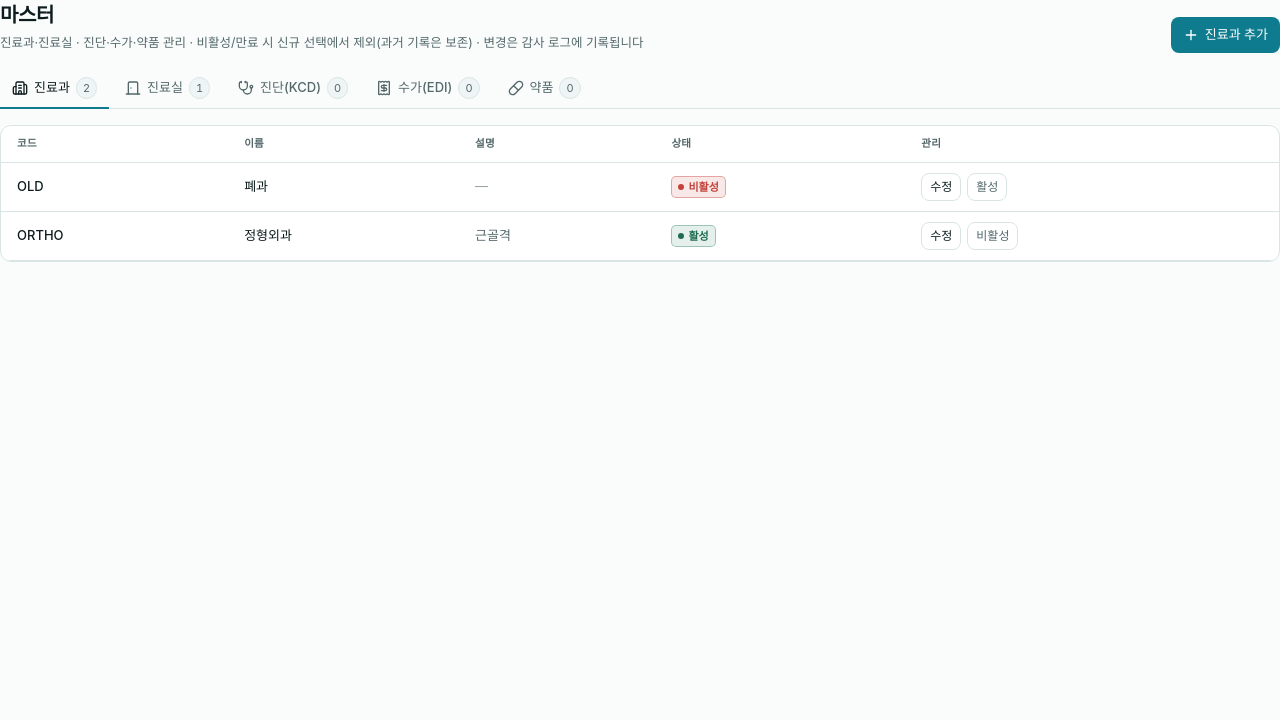
Test: MastersManager › 진단 생성 → POST /v1/masters/diagnoses (발효일 포함)
Click the tab "진단(KCD) 0": (293, 89) [226,69,360,109]
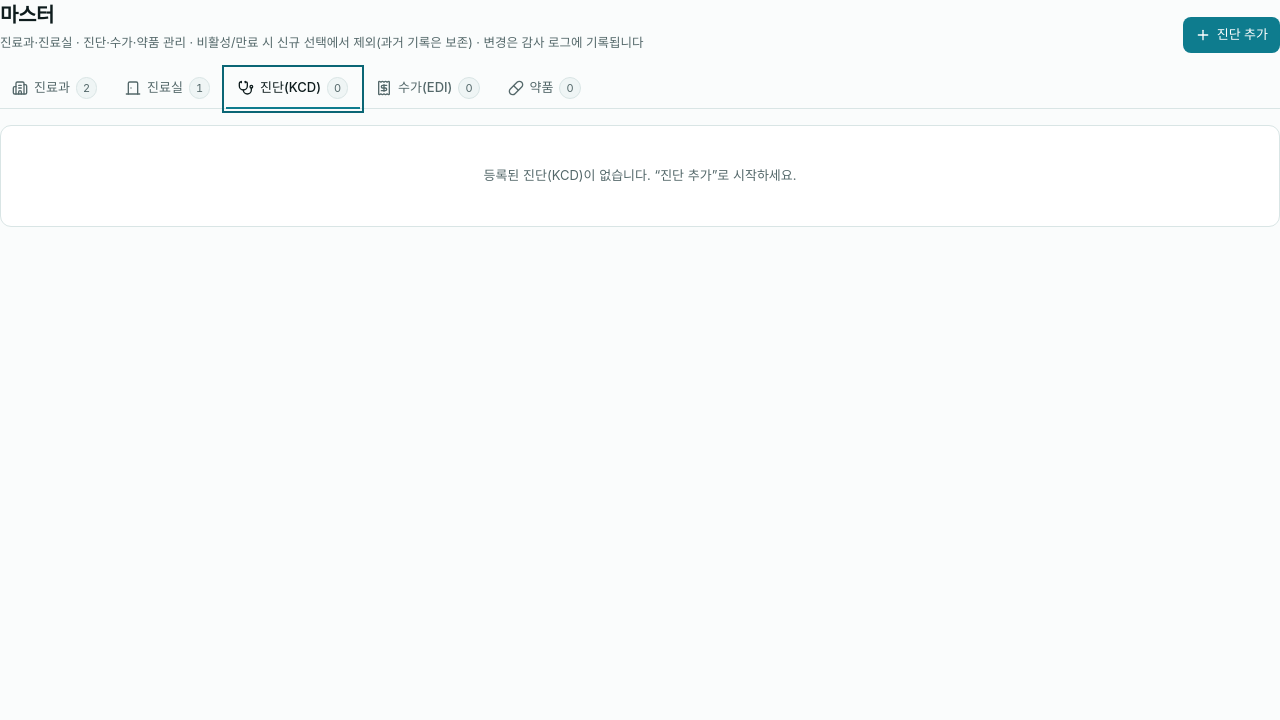
Click the button "진단 추가": (1231, 35) [1183,17,1279,53]
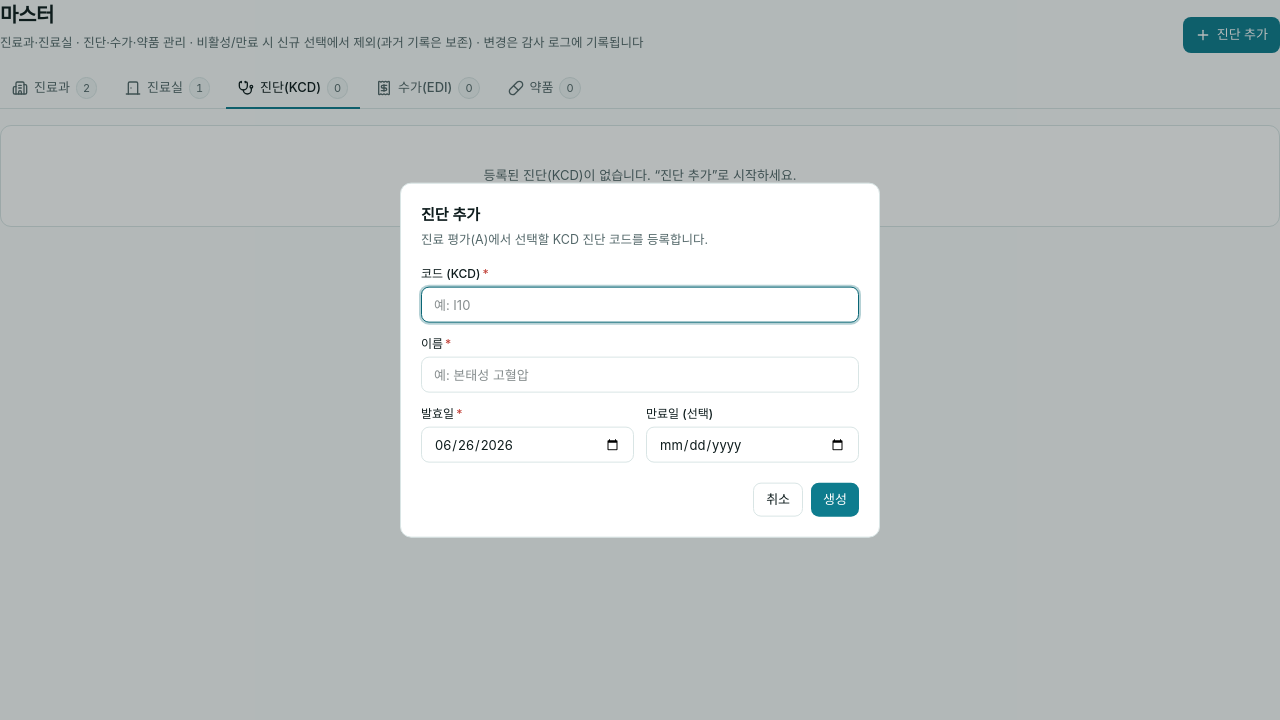
In the field labelled "코드 (KCD)*": (640, 305) [421,287,859,323], type "K35"
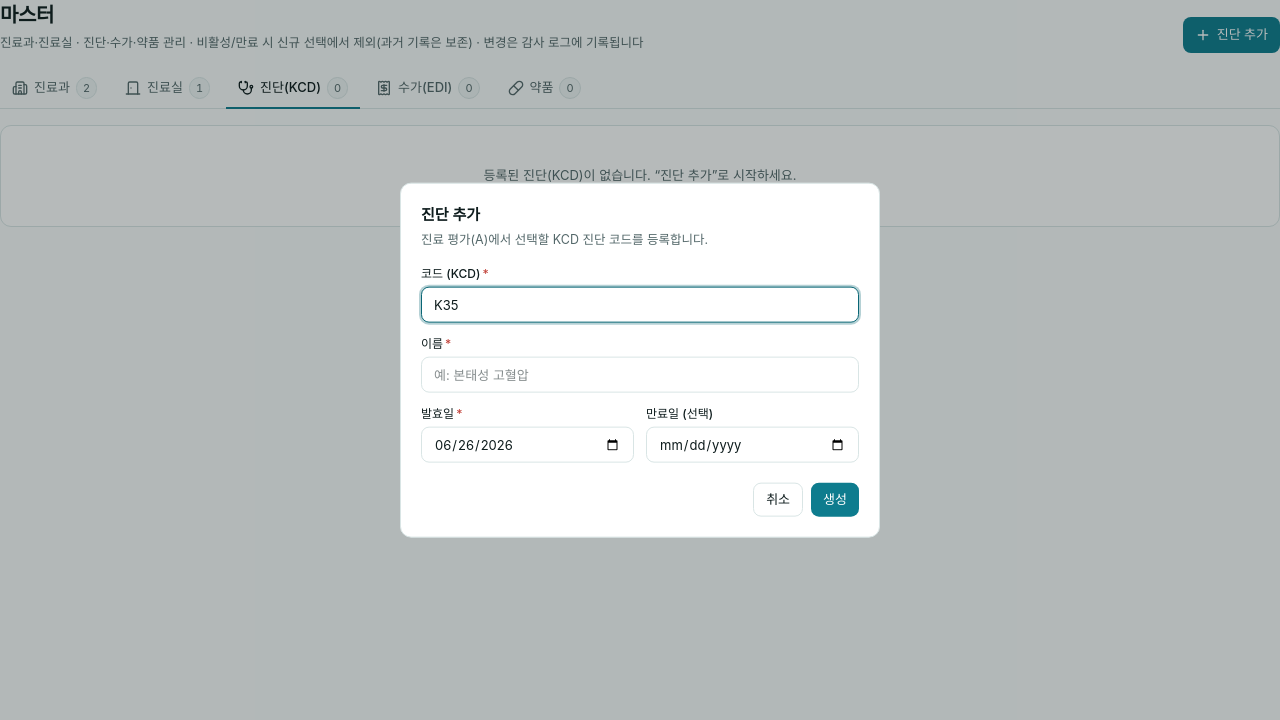
In the field labelled "이름*": (640, 375) [421,357,859,393], type "급성 충수염"
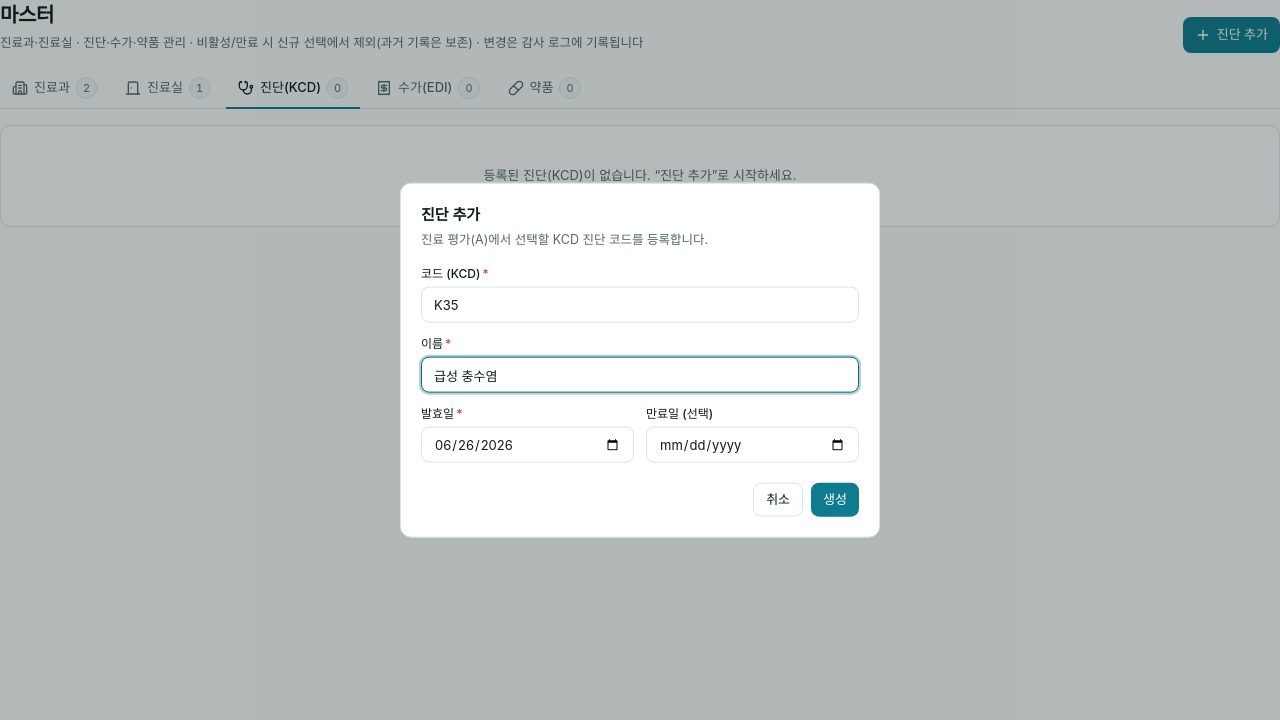
Click the button "생성": (835, 500) [811,483,859,516]
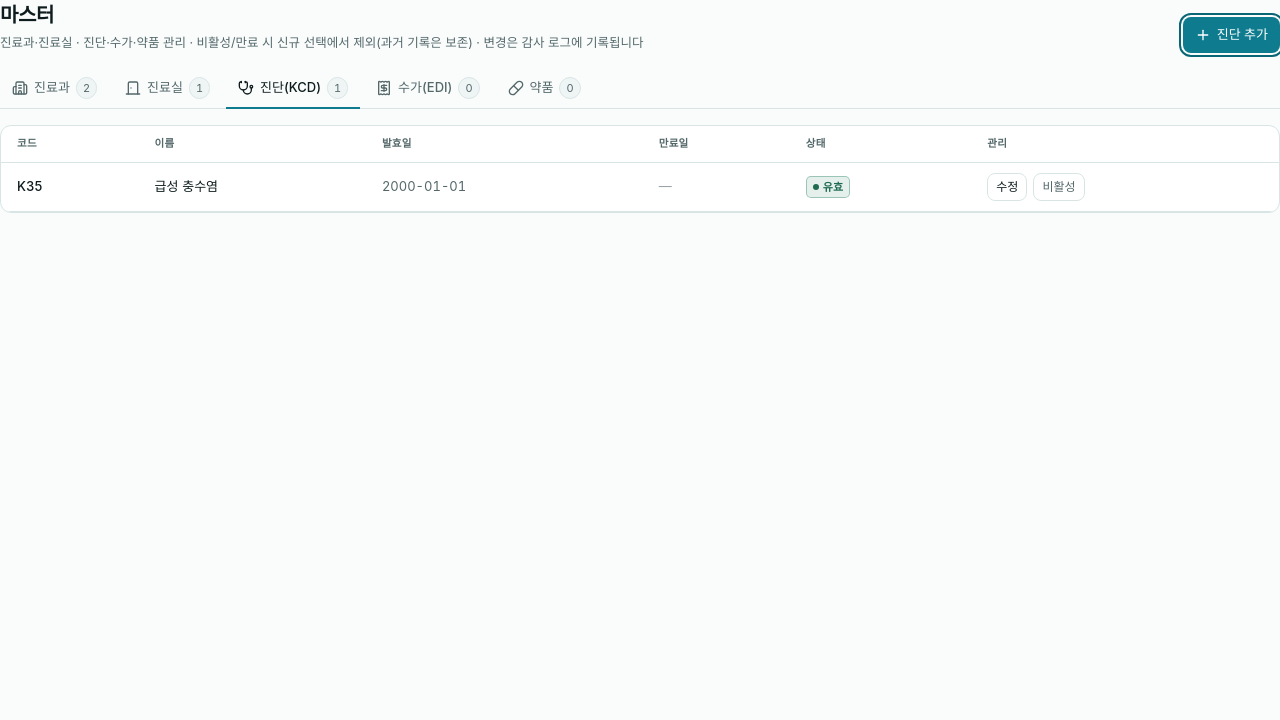
Result: the column heading "K35" is shown at [1,163,139,212]
Result: the cell "급성 충수염" is shown at [139,163,366,212]
